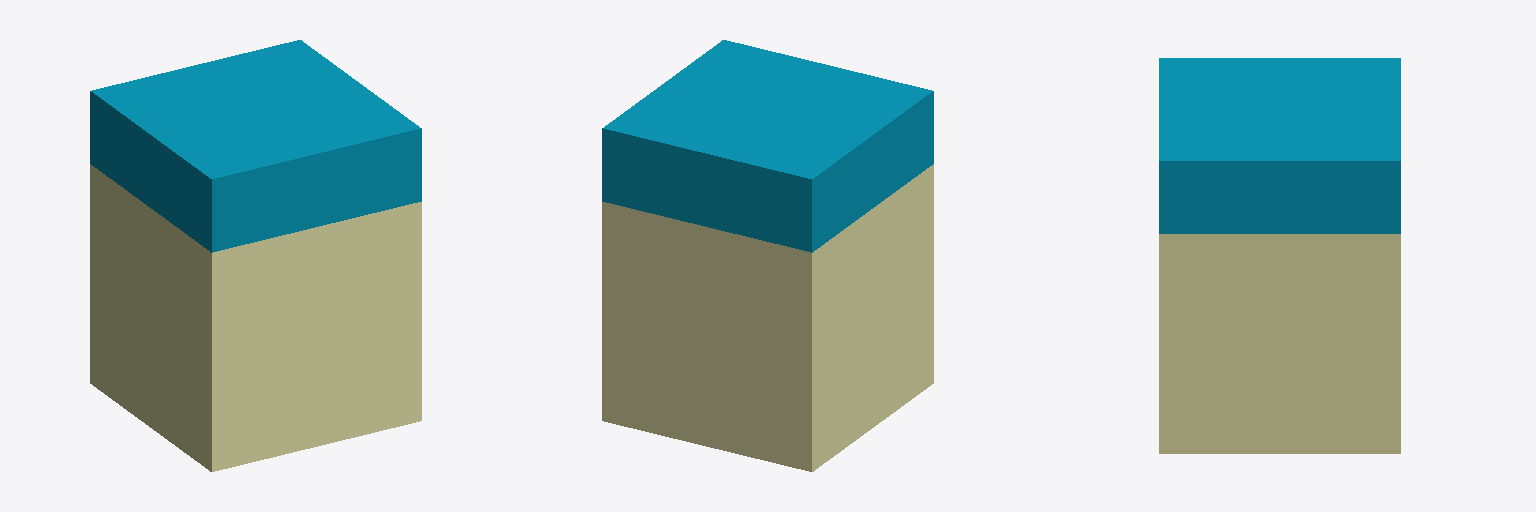
3 renders of one model, left to right at view 1: azimuth 30°, elevation 25°; view 2: azimuth 150°, elevation 25°; view 3: azimuth 270°, elevation 25°, orthographic.
Parts seen in each view (by area): view 1: entotsuOK; view 2: entotsuOK; view 3: entotsuOK.
Part boxes in pixels (x1,y1,x2,y2): entotsuOK: (90, 40, 421, 471); entotsuOK: (602, 40, 933, 471); entotsuOK: (1159, 58, 1400, 453).
Bounding box in the file's own units: 3 × 4 × 3.
1 materials, 1 textured.